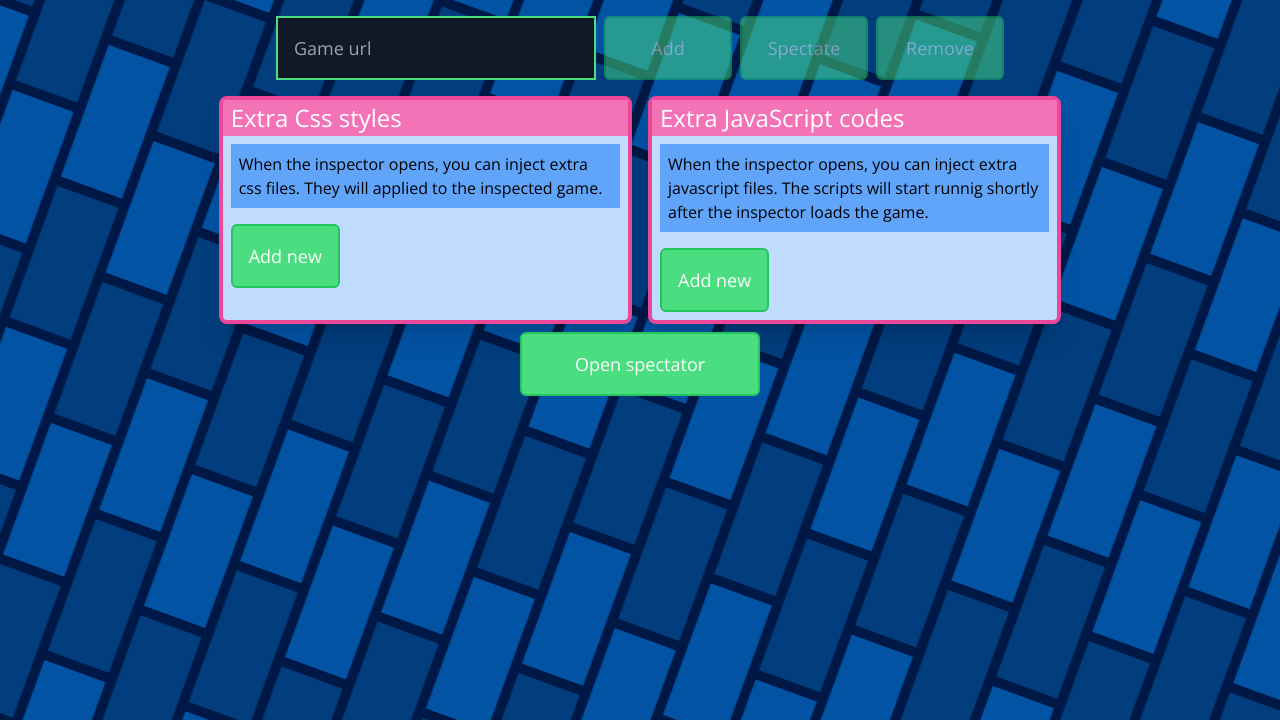
Test: Controls test › Remove url
Type "test" into the field with placeholder "Game url".
click(436, 48); type("test")  # box [276,16,596,80]
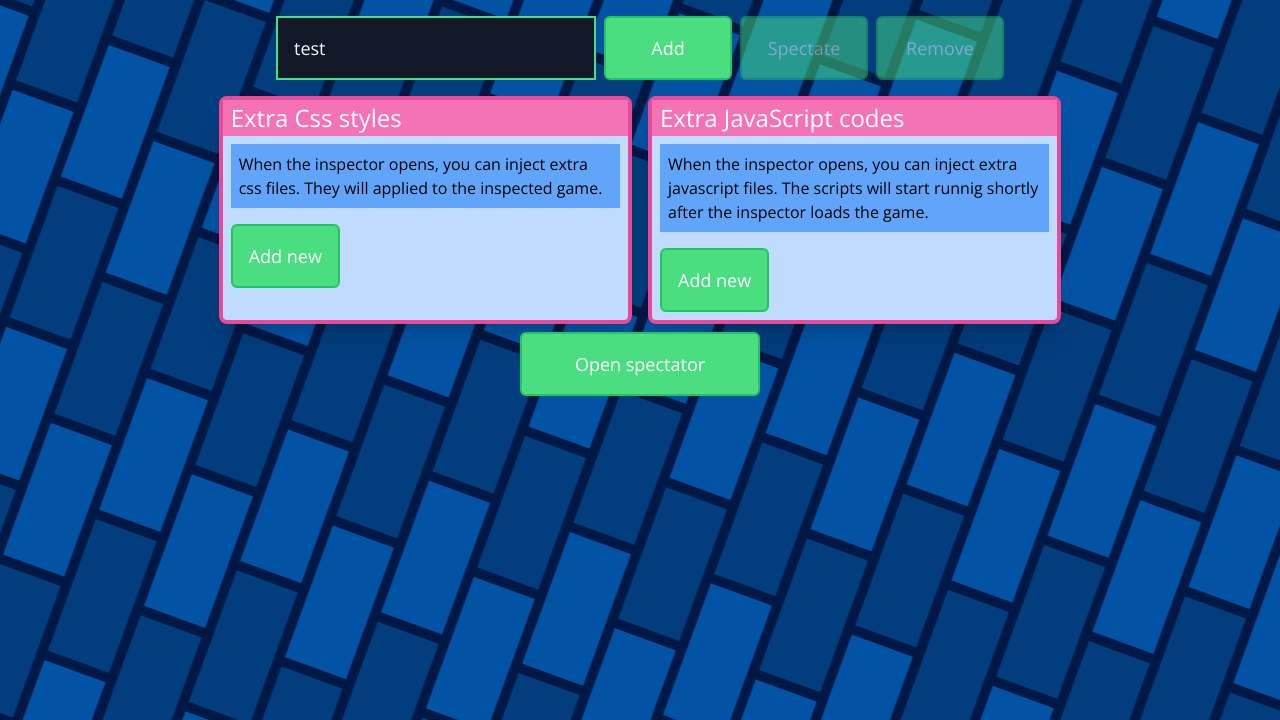
Click the button "Add".
click(668, 48)  # box [604,16,732,80]
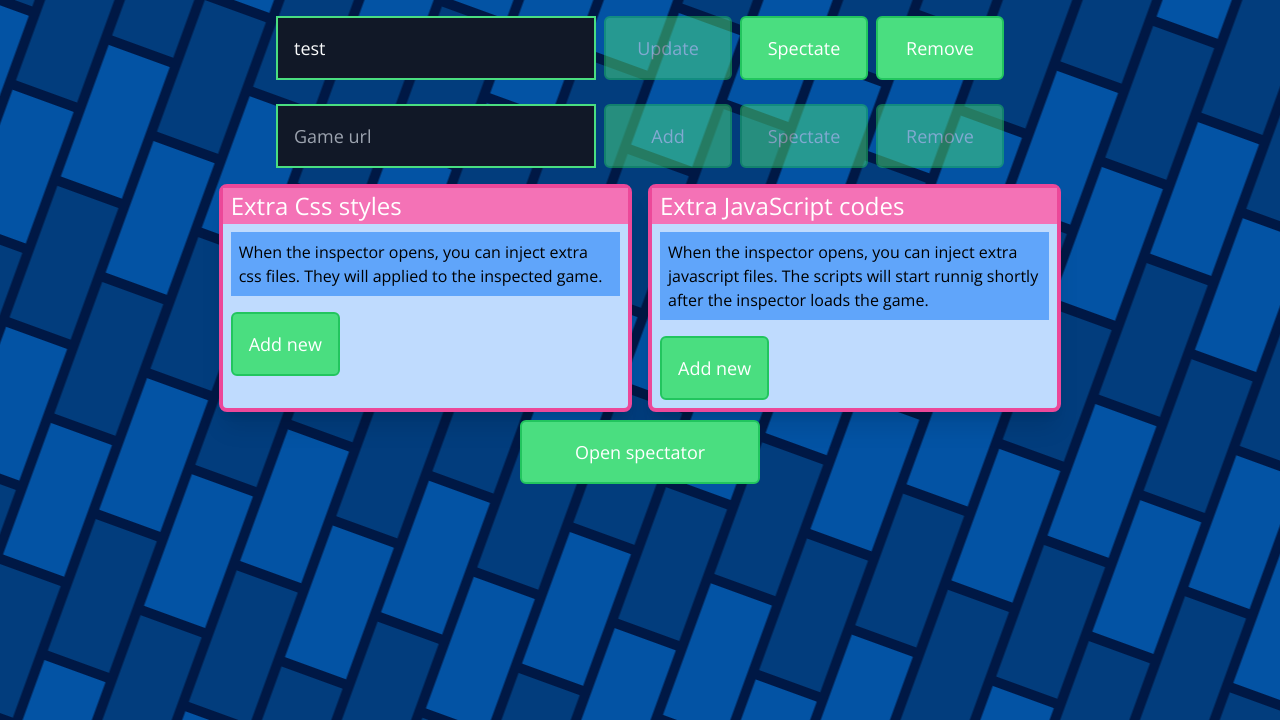
Click the 1st button "Remove".
click(940, 48)  # box [876,16,1004,80]
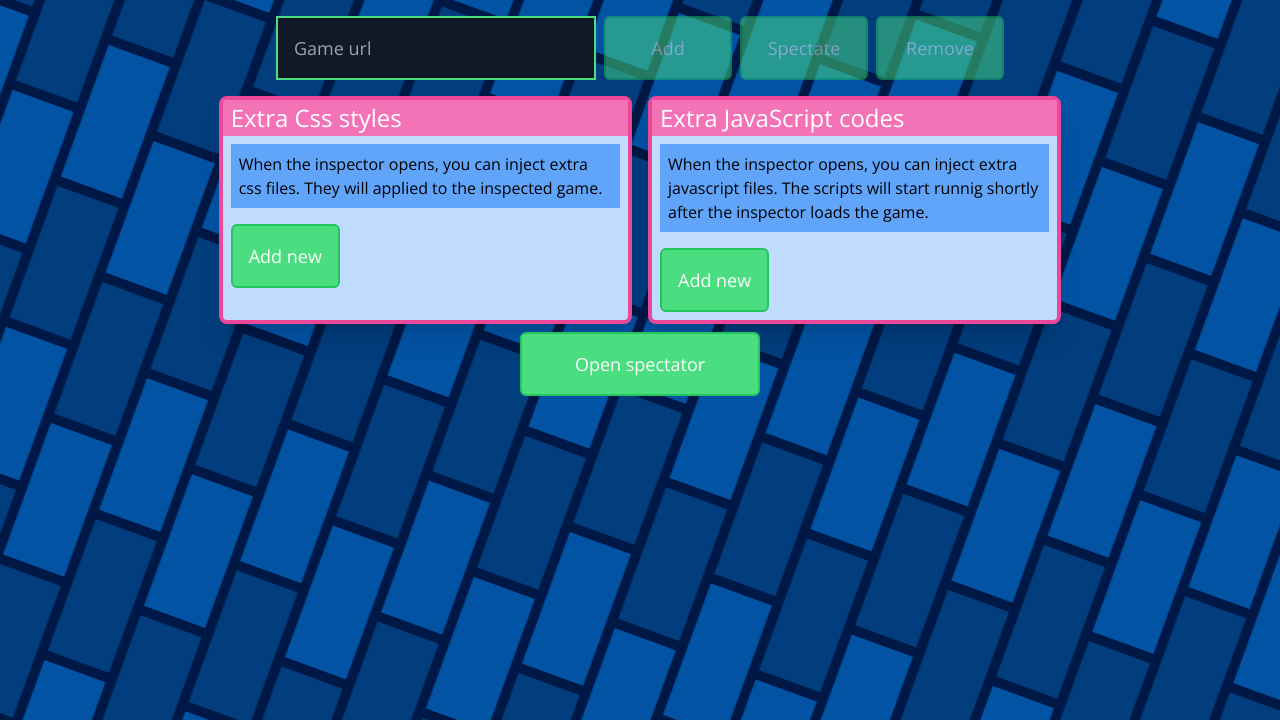
Expected: the number of fields with placeholder "Game url" is 1, [276,16,596,80]
